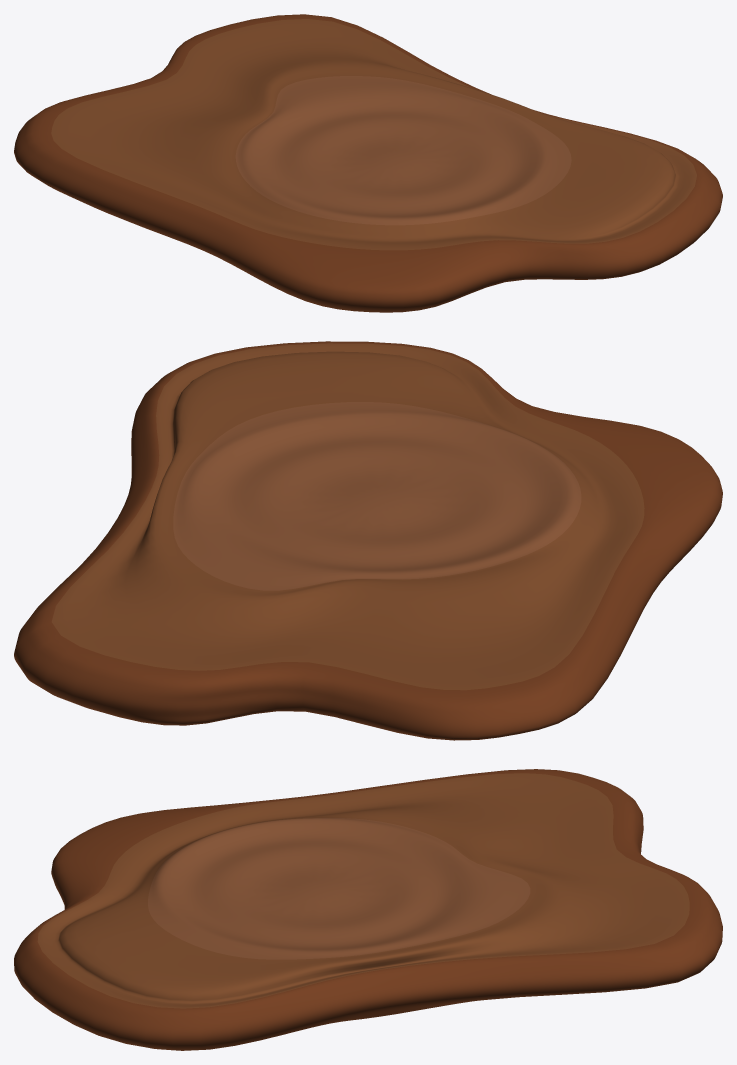
The model's file is Mud.fbx.
3 views of the same model, one above another, from view 1: azimuth 30°, elevation 25°; view 2: azimuth 150°, elevation 25°; view 3: azimuth 270°, elevation 25° (orthographic). The views are drawn at different scales.
Parts seen in each view (by area): view 1: Mud; view 2: Mud; view 3: Mud.
Boxes of the visible parts, x1=… form: Mud: x1=14, y1=14, x2=722, y2=312; Mud: x1=14, y1=341, x2=722, y2=740; Mud: x1=14, y1=769, x2=722, y2=1050.
Bounding box in the file's own units: 2.59 × 0.2873 × 2.99.
